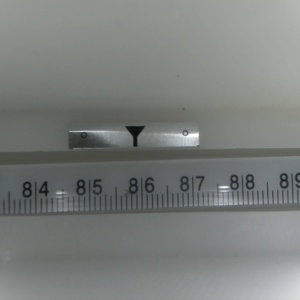4: (37, 181, 48, 196)
5: (92, 179, 102, 194)
6: (144, 176, 154, 193)
7: (195, 176, 204, 190)
8: (21, 182, 32, 198), (278, 173, 288, 189), (127, 177, 137, 193), (178, 176, 188, 191), (244, 174, 254, 189), (228, 175, 238, 190), (75, 180, 85, 195)
9: (294, 172, 300, 188)
finger: (123, 126, 145, 148)
